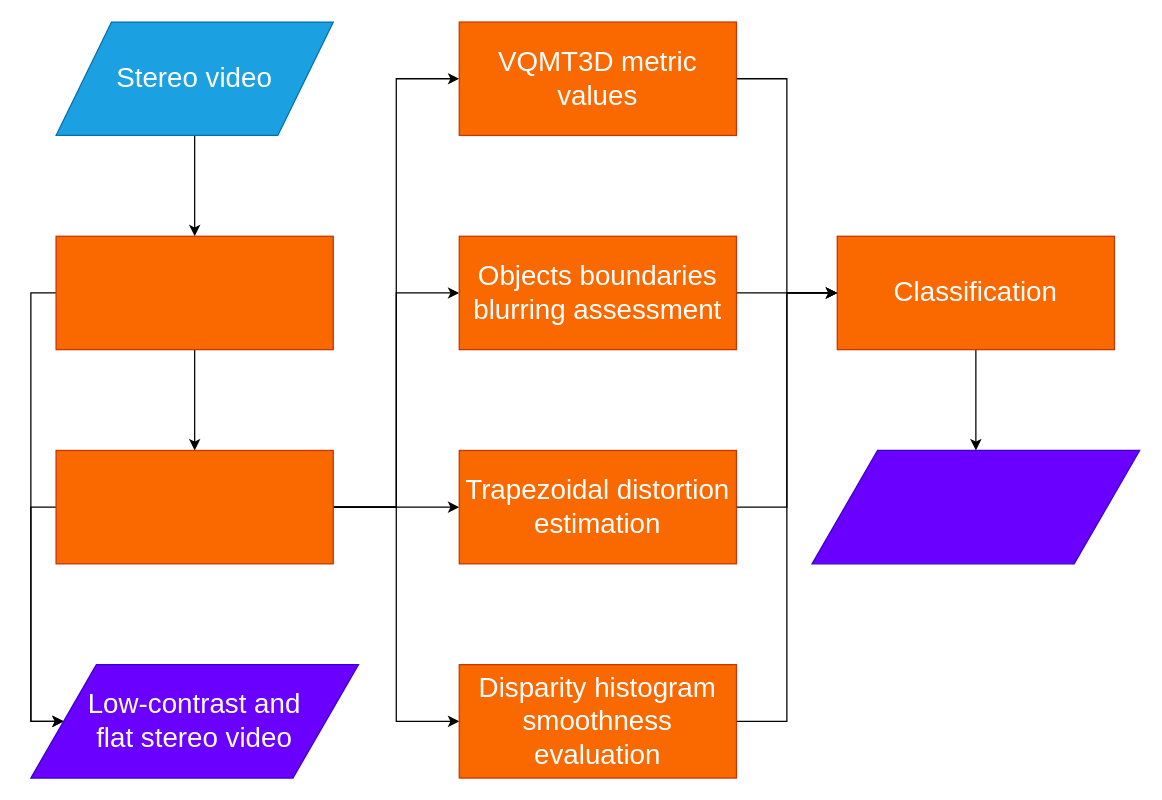
Image size: 1162x800. Some labels were removed from this diagram. Each missing label, with the box of its shape:
Contrast analysis: (55, 235, 333, 350)
Parallax analysis: (55, 449, 333, 564)
Stereo video creation method: (811, 449, 1140, 564)
